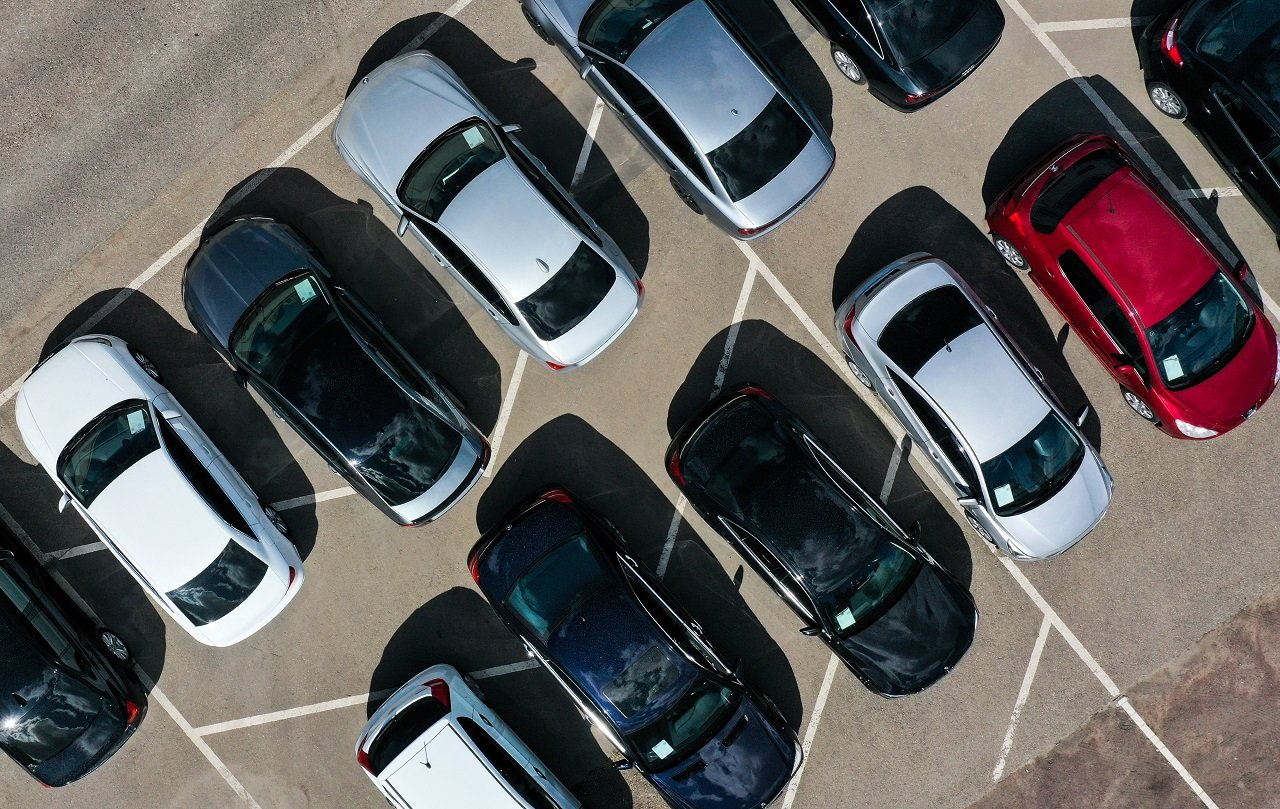Car: (467, 487, 803, 809), (332, 51, 643, 371), (666, 386, 978, 698), (181, 216, 491, 527), (985, 134, 1280, 441), (14, 335, 304, 647), (836, 253, 1114, 561), (519, 0, 836, 240), (0, 528, 148, 788), (1140, 0, 1280, 241), (355, 664, 583, 809), (791, 0, 1004, 113)
